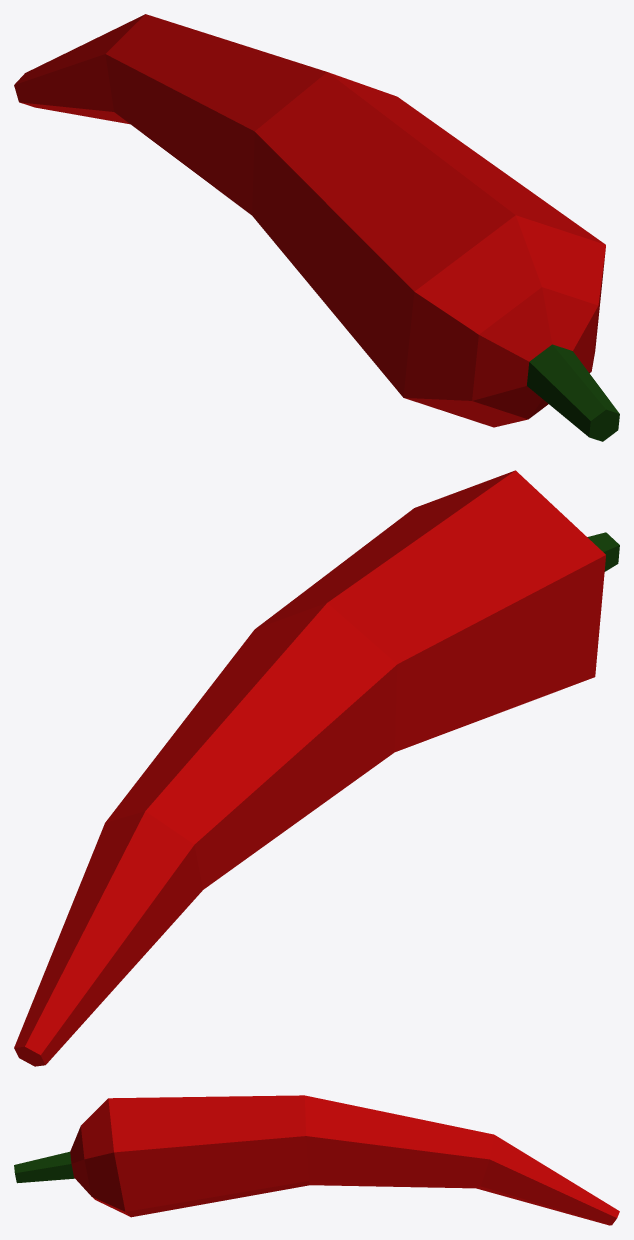
The picture shows the model from 3 angles, top to bottom: view 1: azimuth 30°, elevation 25°; view 2: azimuth 150°, elevation 25°; view 3: azimuth 270°, elevation 25°; orthographic projection. The views are drawn at different scales.
Parts seen in each view (by area): view 1: ChiliPepper_Cylinder.010; view 2: ChiliPepper_Cylinder.010; view 3: ChiliPepper_Cylinder.010.
Boxes of the visible parts, x1=… form: ChiliPepper_Cylinder.010: x1=14, y1=14, x2=619, y2=441; ChiliPepper_Cylinder.010: x1=14, y1=470, x2=619, y2=1066; ChiliPepper_Cylinder.010: x1=14, y1=1095, x2=619, y2=1225.
Size of the model in its own units: 1.19 by 1.48 by 6.25.
1 material, 1 textured.
